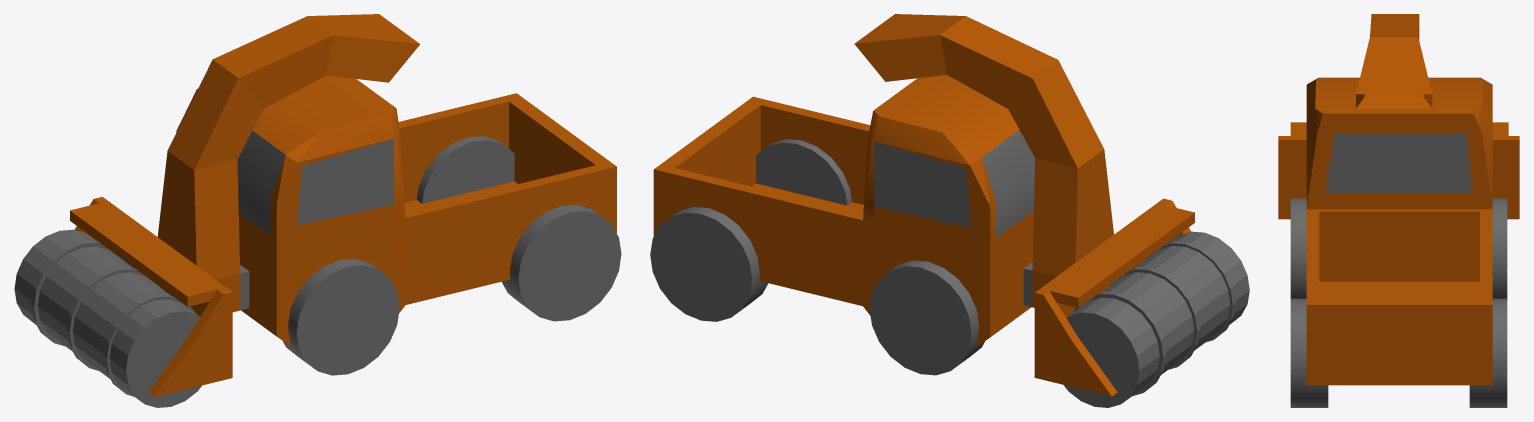
Rendered from SC_Plough_FBX.fbx.
3 views of the same model, side by side, from view 1: azimuth 30°, elevation 25°; view 2: azimuth 150°, elevation 25°; view 3: azimuth 270°, elevation 25° (orthographic). The views are drawn at different scales.
Visible parts, largest first — view 1: Truck_Body, RollerCage, Roller, SP_Wheel_BR, SP_Wheel_FR, SP_Wheel_BL; view 2: Truck_Body, RollerCage, Roller, SP_Wheel_BL, SP_Wheel_FL, SP_Wheel_BR; view 3: Truck_Body, RollerCage, SP_Wheel_BR, SP_Wheel_BL, SP_Wheel_FR, SP_Wheel_FL.
Part boxes in pixels (bbox=[...]): Truck_Body: bbox=[176, 75, 616, 345]; RollerCage: bbox=[70, 14, 419, 396]; Roller: bbox=[14, 229, 201, 407]; SP_Wheel_BR: bbox=[502, 204, 621, 321]; SP_Wheel_FR: bbox=[283, 258, 399, 375]; SP_Wheel_BL: bbox=[416, 136, 514, 203]; Truck_Body: bbox=[653, 75, 1034, 346]; RollerCage: bbox=[854, 14, 1194, 396]; Roller: bbox=[1064, 231, 1249, 407]; SP_Wheel_BL: bbox=[650, 207, 768, 321]; SP_Wheel_FL: bbox=[869, 260, 985, 375]; SP_Wheel_BR: bbox=[756, 139, 851, 205]; Truck_Body: bbox=[1306, 77, 1492, 385]; RollerCage: bbox=[1278, 14, 1519, 219]; SP_Wheel_BR: bbox=[1290, 298, 1328, 407]; SP_Wheel_BL: bbox=[1469, 298, 1507, 407]; SP_Wheel_FR: bbox=[1290, 198, 1306, 298]; SP_Wheel_FL: bbox=[1492, 198, 1507, 298].
Size of the model in its own units: 7.76 by 4.46 by 3.5.
